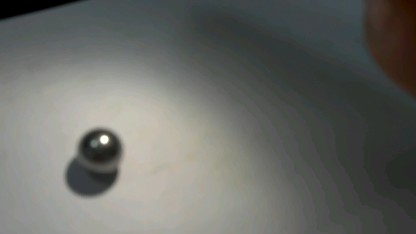ironball: (68, 124, 126, 179)
